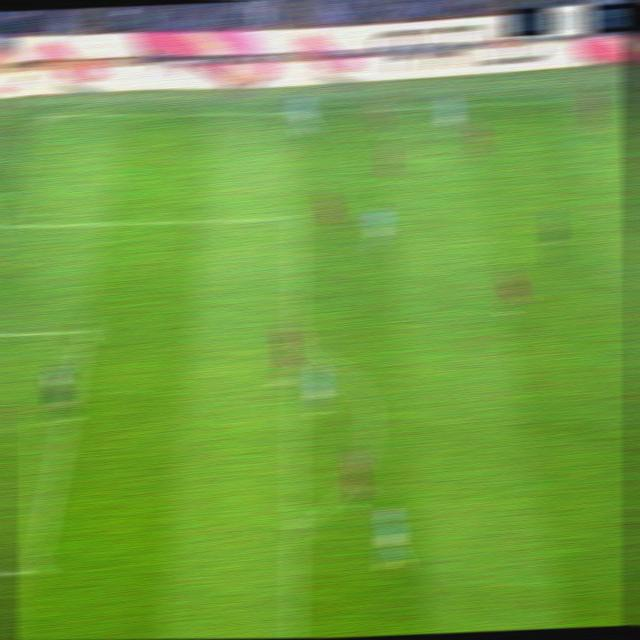bigarea_top_inner: (283, 205, 311, 230)
bigarea_top_outter: (0, 213, 19, 234)
bottom_arc_area_intersection: (280, 510, 311, 539)
corner: (25, 105, 56, 126)
smallarea_bottom_inner: (22, 551, 52, 583)
smallarea_top_inner: (69, 317, 99, 344)
top_arc_area_intersection: (285, 329, 312, 356)
